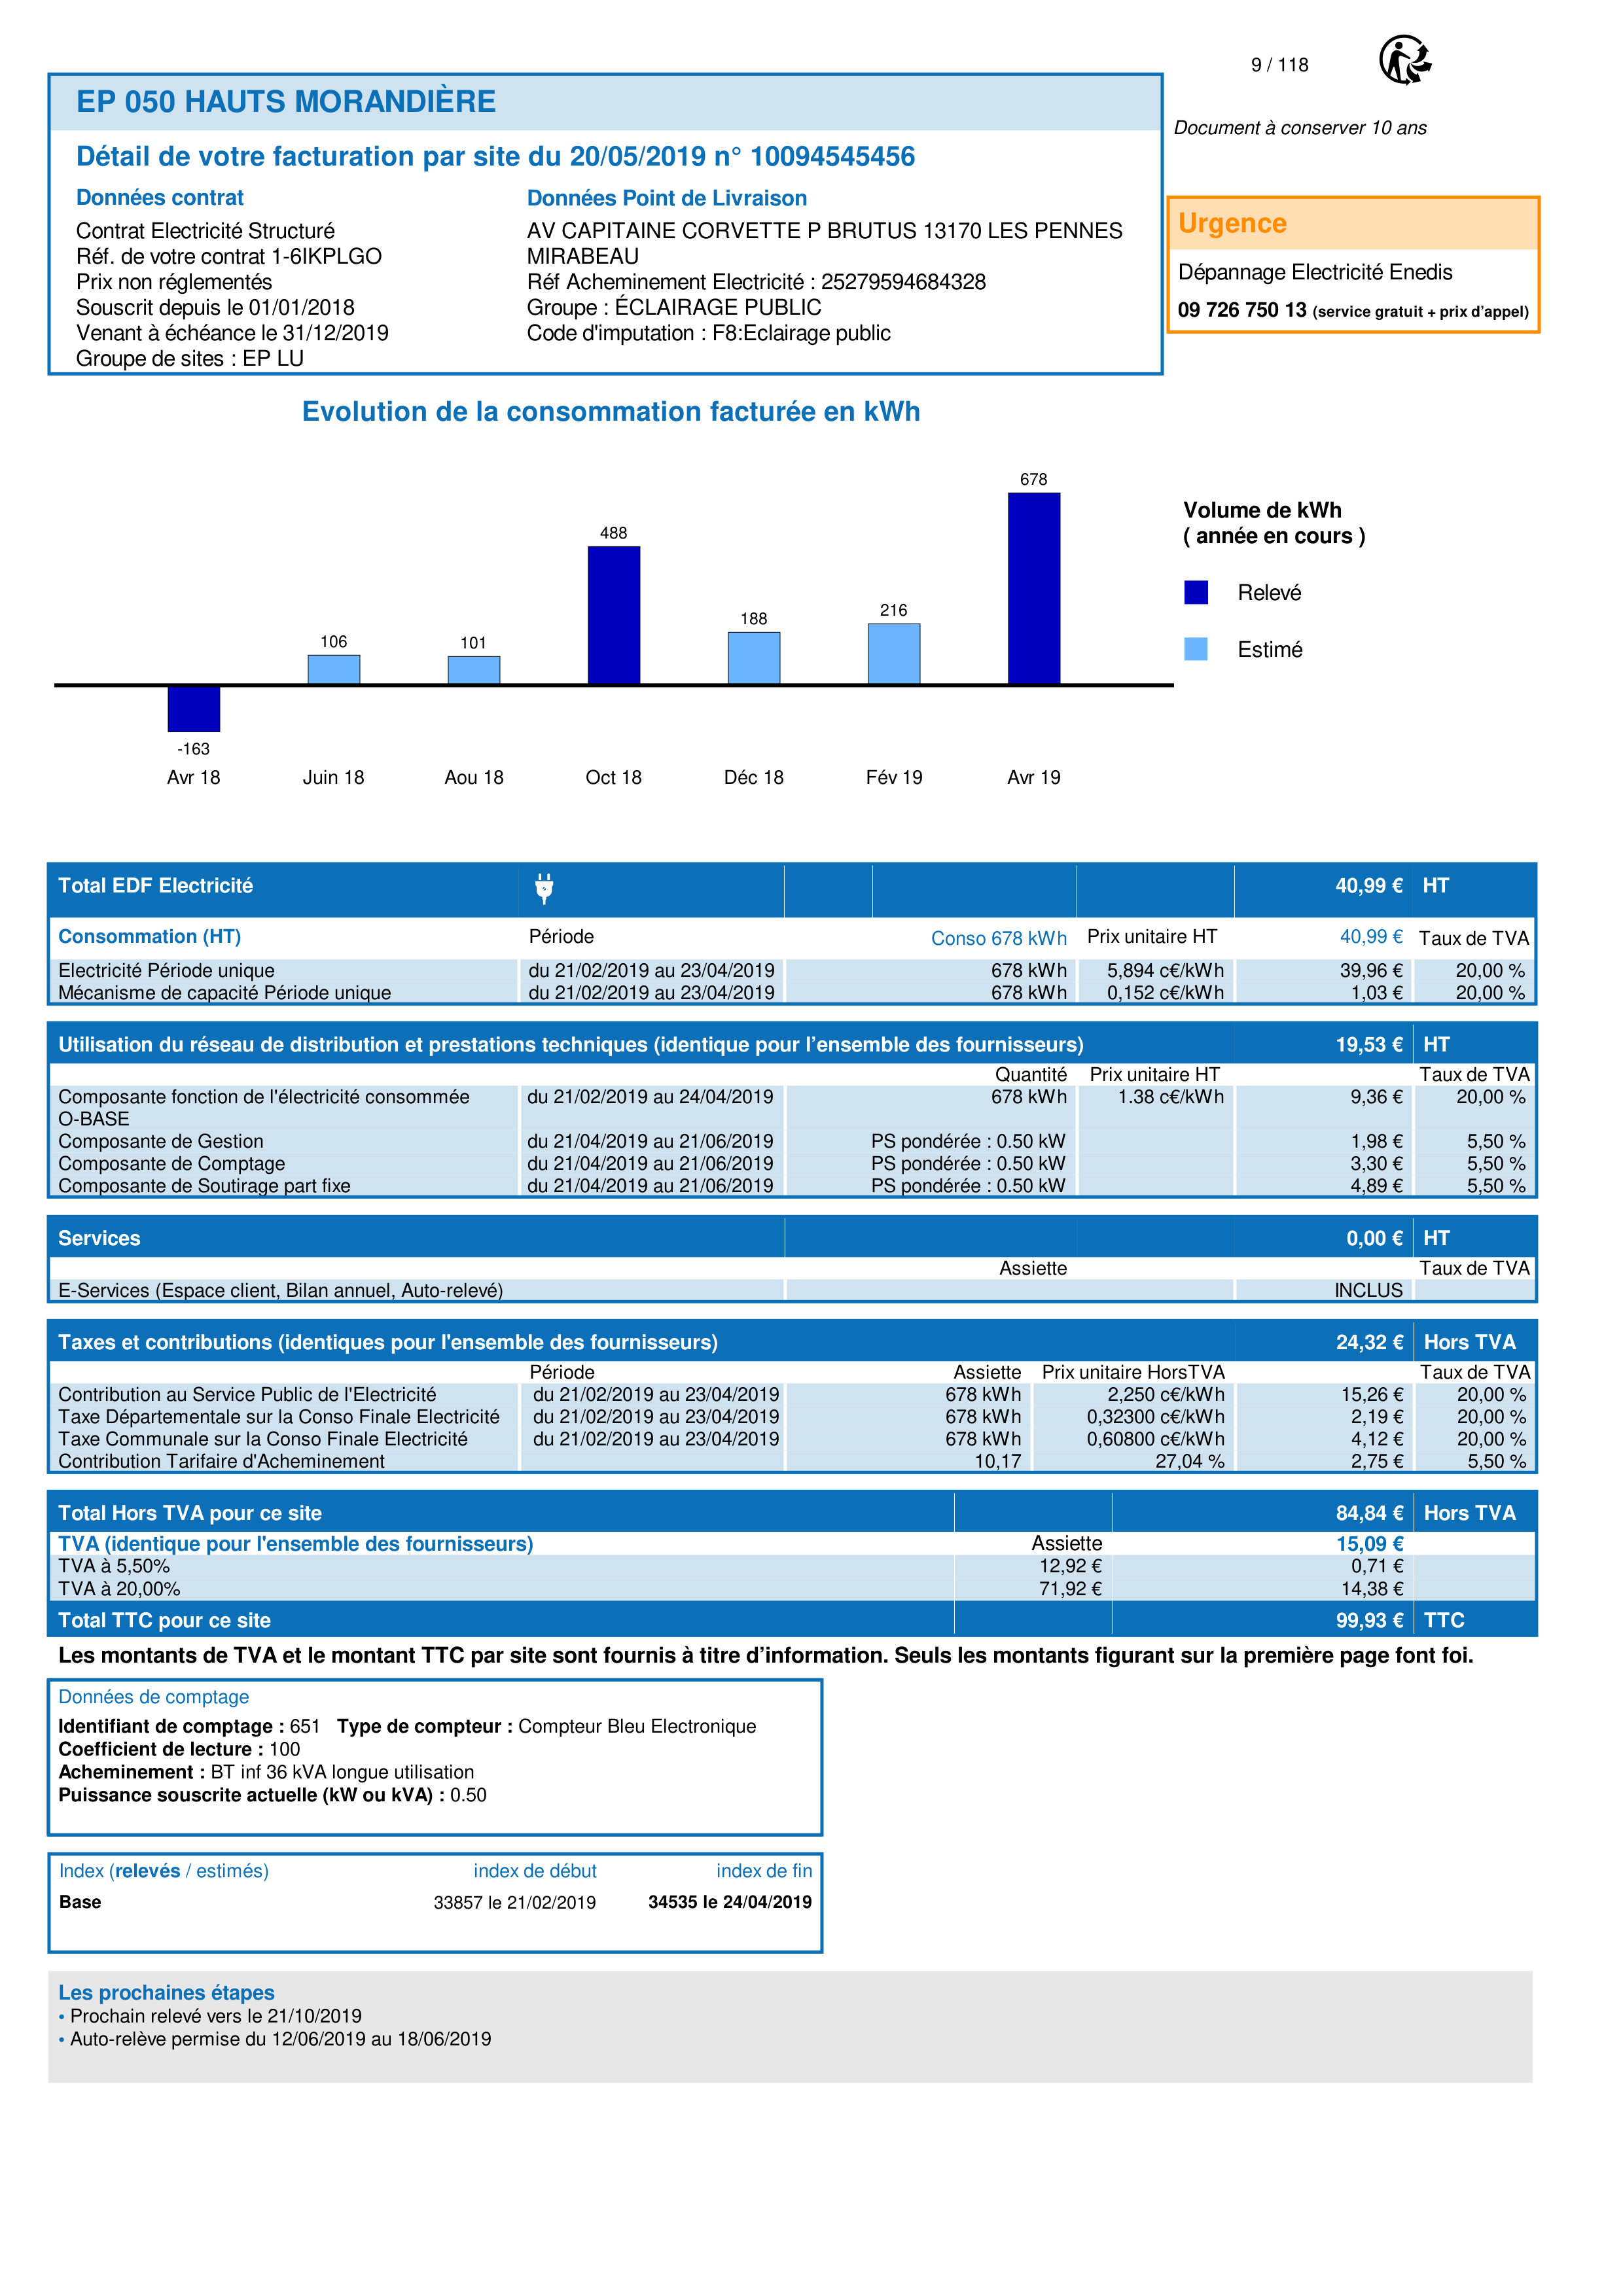area: (49, 1852, 824, 1951)
type_indicator: (48, 1853, 282, 1889)
